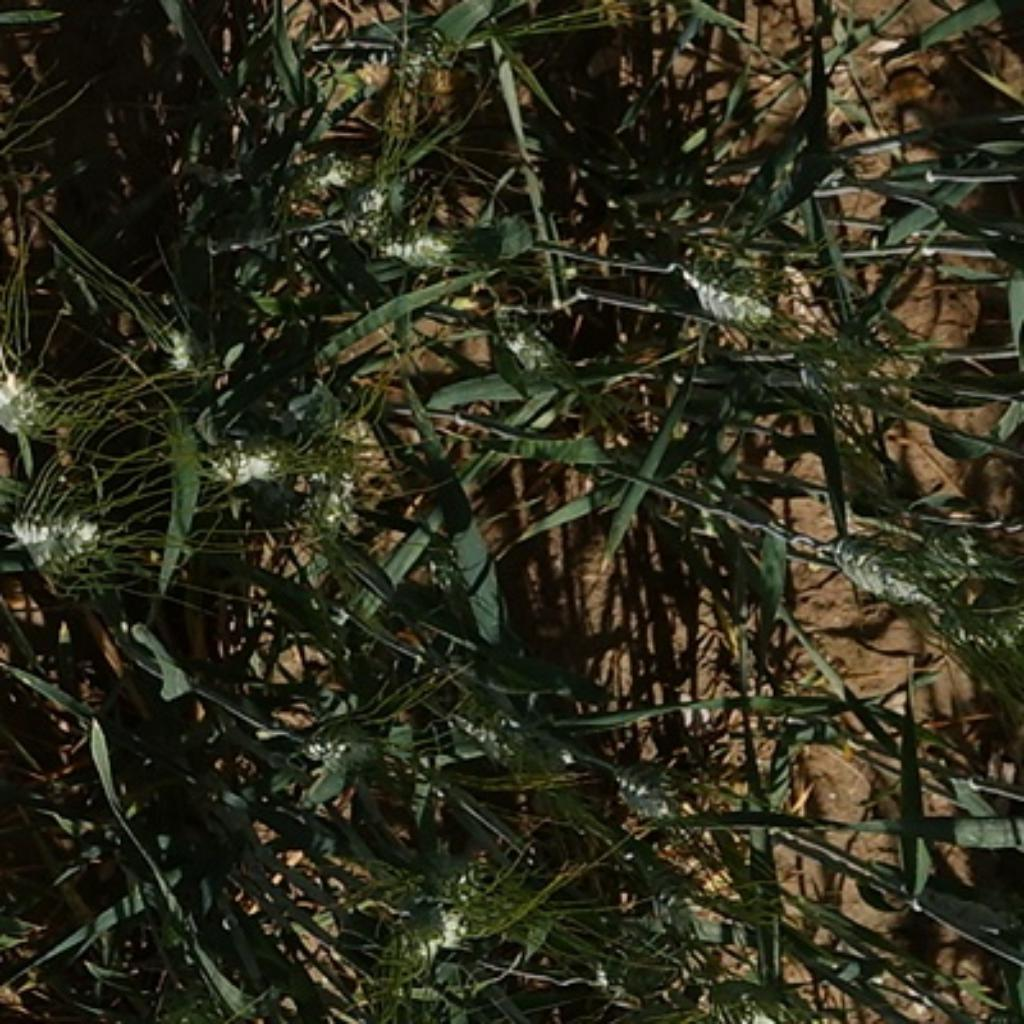0-0: (353, 1, 491, 134), (816, 496, 975, 606), (445, 663, 586, 783), (378, 878, 501, 983), (294, 698, 419, 791), (185, 425, 303, 512), (0, 486, 110, 573), (919, 581, 1024, 668), (483, 291, 586, 378), (679, 258, 774, 343), (448, 194, 535, 276), (445, 197, 532, 273), (601, 755, 683, 834), (156, 302, 232, 373), (303, 468, 368, 550), (363, 207, 453, 266), (0, 355, 58, 435), (324, 188, 400, 246), (300, 154, 355, 207)
